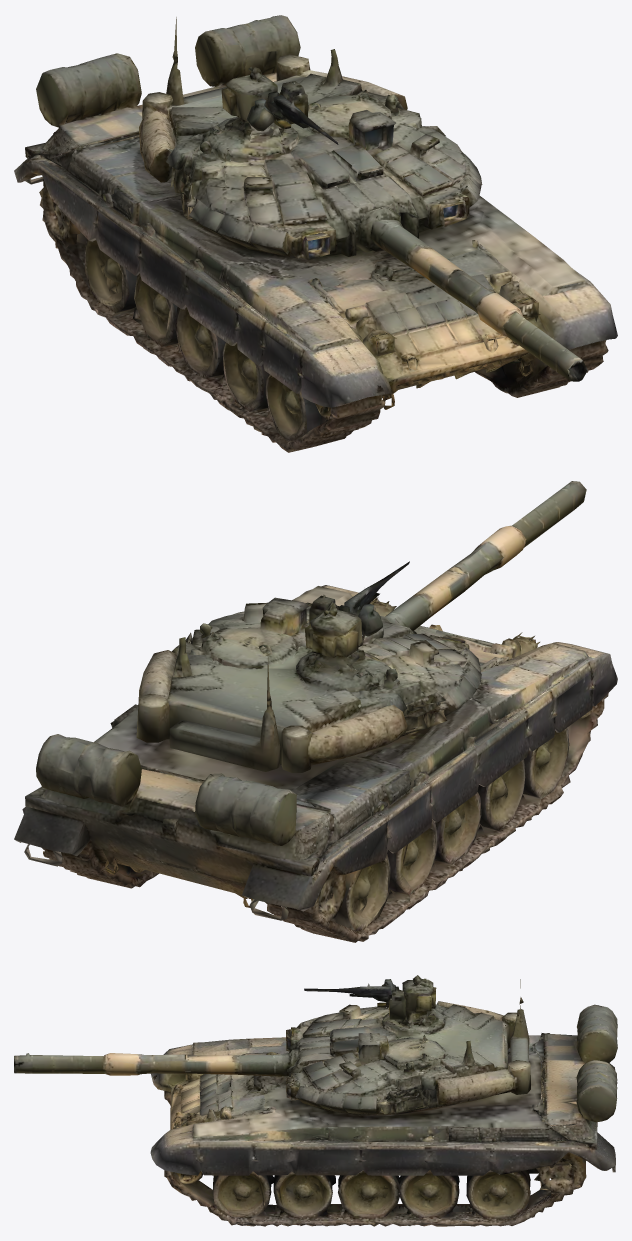
Rendered from tank_t90.glb.
3 renders of one model, top to bottom at view 1: azimuth 30°, elevation 25°; view 2: azimuth 150°, elevation 25°; view 3: azimuth 270°, elevation 25°, orthographic. The views are drawn at different scales.
Parts seen in each view (by area): view 1: geometry_0; view 2: geometry_0; view 3: geometry_0.
Part boxes in pixels (left/top/right/bottom): geometry_0: left=14, top=15, right=617, bottom=452; geometry_0: left=14, top=481, right=617, bottom=942; geometry_0: left=14, top=975, right=617, bottom=1226.
Size of the model in its own units: 0.4534 by 0.3938 by 1.12.
Materials: 1 (1 with a texture image).
